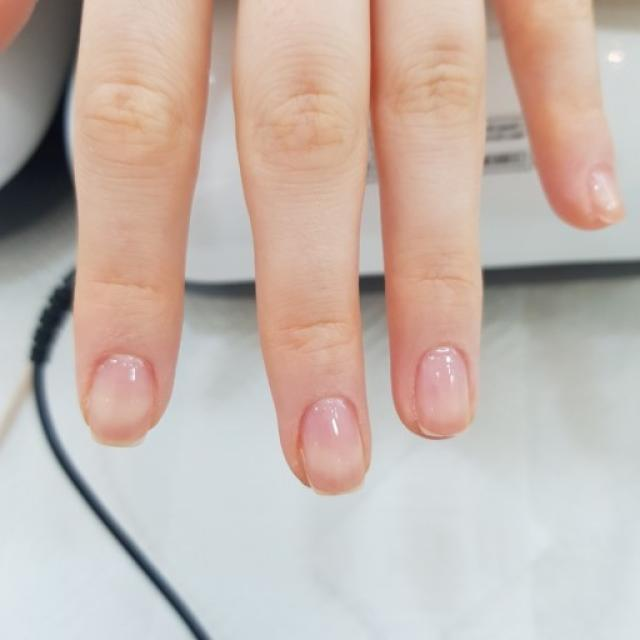Nail: (300, 398, 368, 494), (88, 354, 156, 443), (415, 345, 472, 437), (590, 171, 622, 222)
